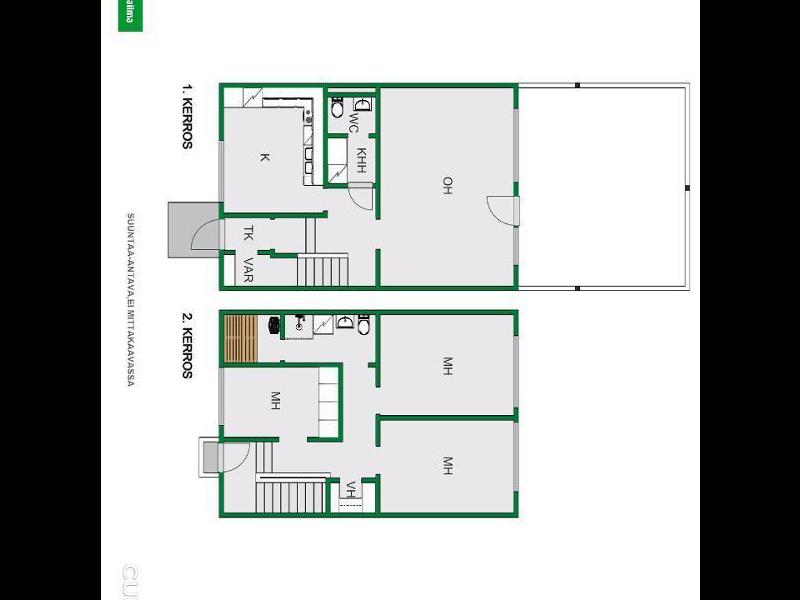bathroom: (284, 316, 378, 364), (328, 90, 376, 136)
door: (185, 215, 228, 254), (215, 441, 252, 475), (485, 193, 518, 231), (346, 179, 376, 213)
perimeter: (217, 308, 520, 518), (216, 82, 518, 292)
stairs: (252, 481, 325, 516), (296, 254, 347, 287), (254, 442, 275, 474), (300, 216, 318, 252)
window: (507, 102, 522, 188), (507, 328, 520, 413), (213, 133, 228, 206), (214, 365, 228, 431), (508, 419, 519, 497), (506, 223, 520, 270)
